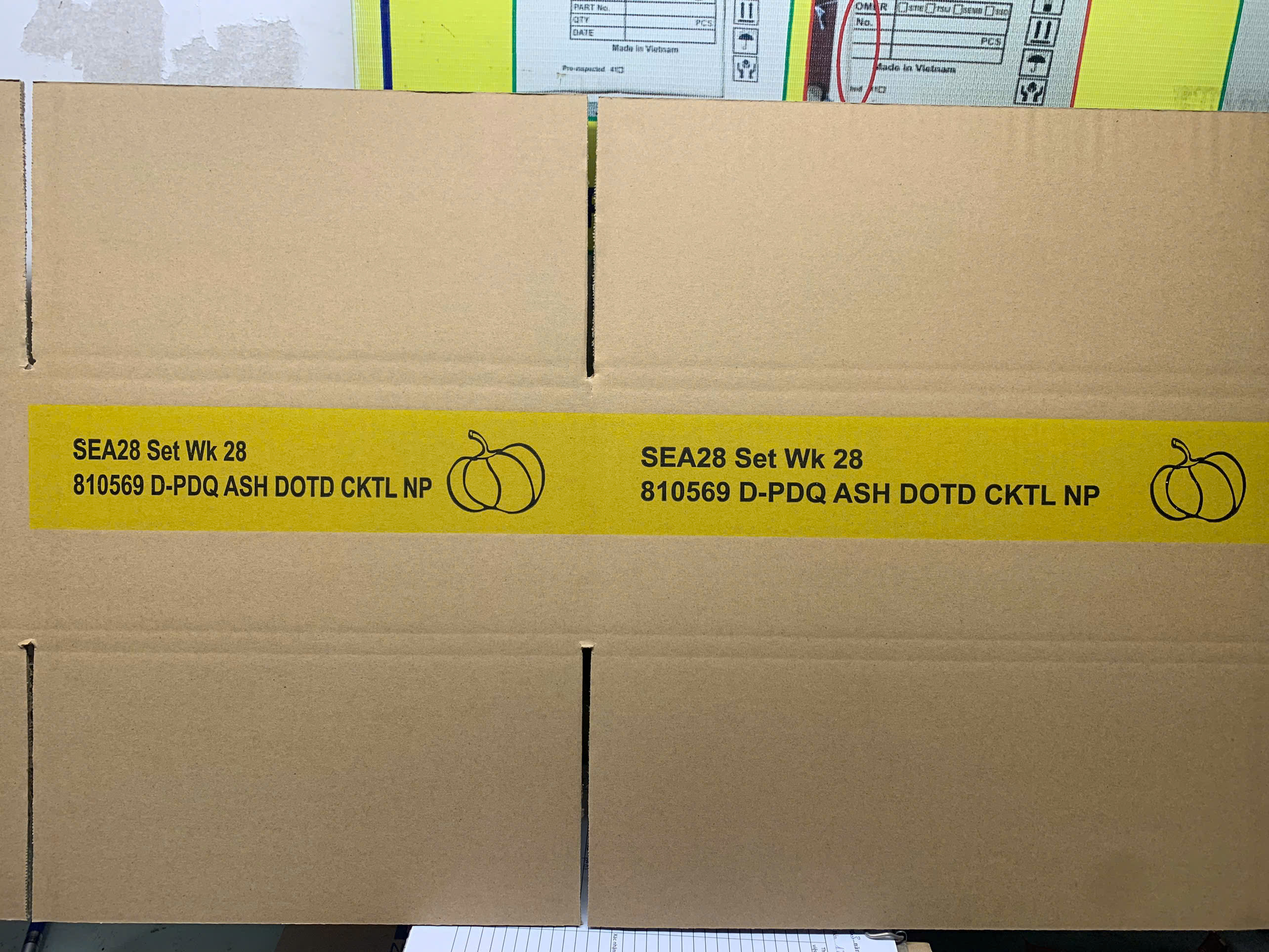box: (0, 82, 1269, 929)
